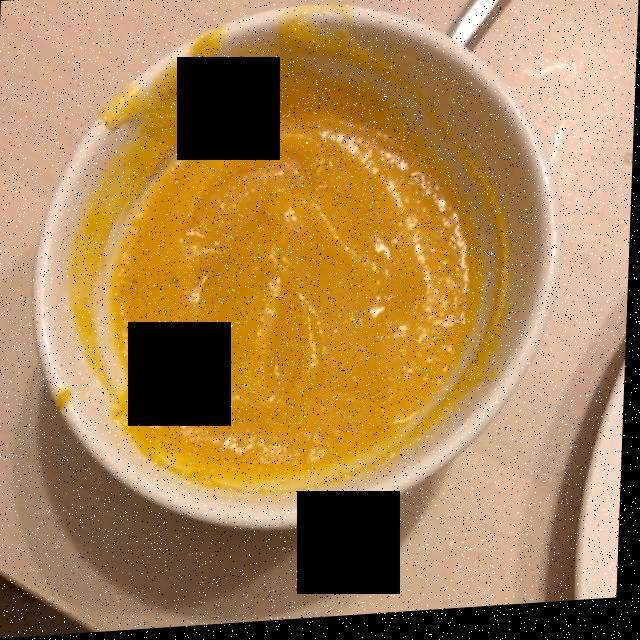soup: (73, 34, 495, 487)
